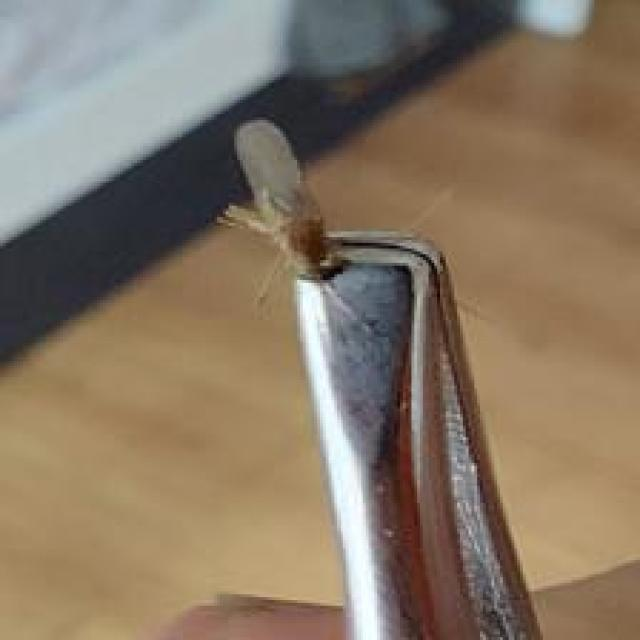Culex: (213, 114, 567, 640)
